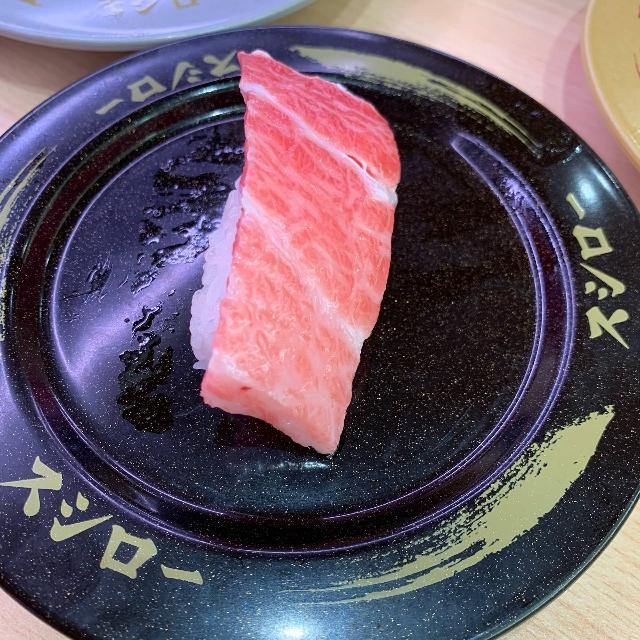janback: (14, 78, 617, 614)
jangold: (586, 9, 640, 226)
janwhite: (0, 0, 355, 51)
